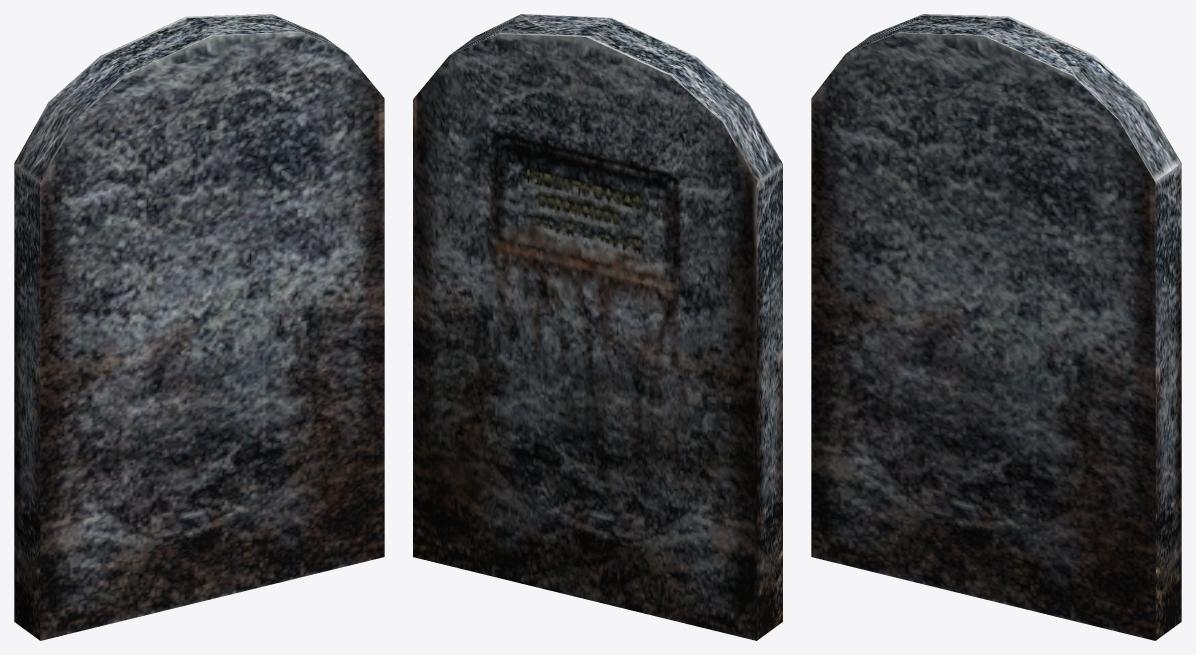
The model's file is cem_tomb2.glb.
The picture shows the model from 3 angles, left to right: view 1: azimuth 30°, elevation 25°; view 2: azimuth 150°, elevation 25°; view 3: azimuth 330°, elevation 25°; orthographic projection.
Visible parts, largest first — view 1: cem_tomb2; view 2: cem_tomb2; view 3: cem_tomb2.
Part boxes in pixels (x1=…): cem_tomb2: x1=14, y1=14, x2=384, y2=640; cem_tomb2: x1=413, y1=14, x2=782, y2=640; cem_tomb2: x1=811, y1=14, x2=1181, y2=640.
Bounding box in the file's own units: 1.31 × 2.05 × 0.173.
Materials: 2 (2 with a texture image).
